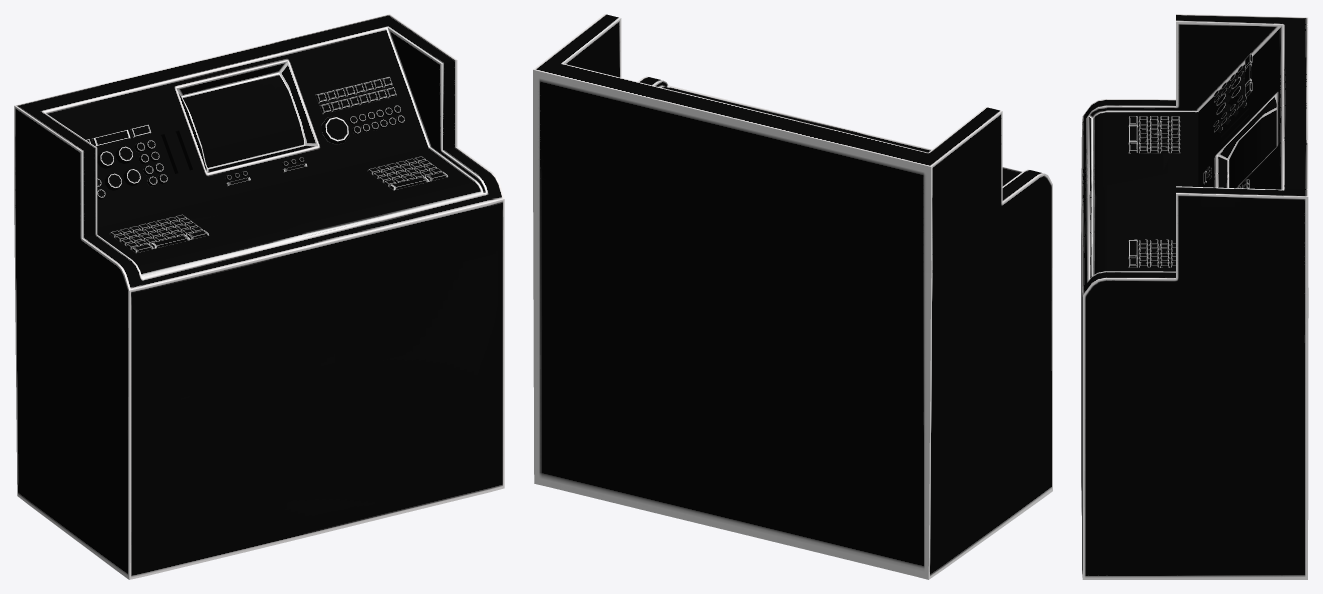
File: Power up Terminal Fixed lines.fbx
3 views of the same model, side by side, from view 1: azimuth 30°, elevation 25°; view 2: azimuth 150°, elevation 25°; view 3: azimuth 270°, elevation 25° (orthographic). The views are drawn at different scales.
Parts seen in each view (by area): view 1: polySurface101; view 2: polySurface101; view 3: polySurface101.
Part boxes in pixels (x1=…): polySurface101: x1=14, y1=14, x2=504, y2=579; polySurface101: x1=533, y1=14, x2=1052, y2=579; polySurface101: x1=1081, y1=14, x2=1308, y2=579.
Size of the model in its own units: 19.7 by 19.75 by 10.51.
